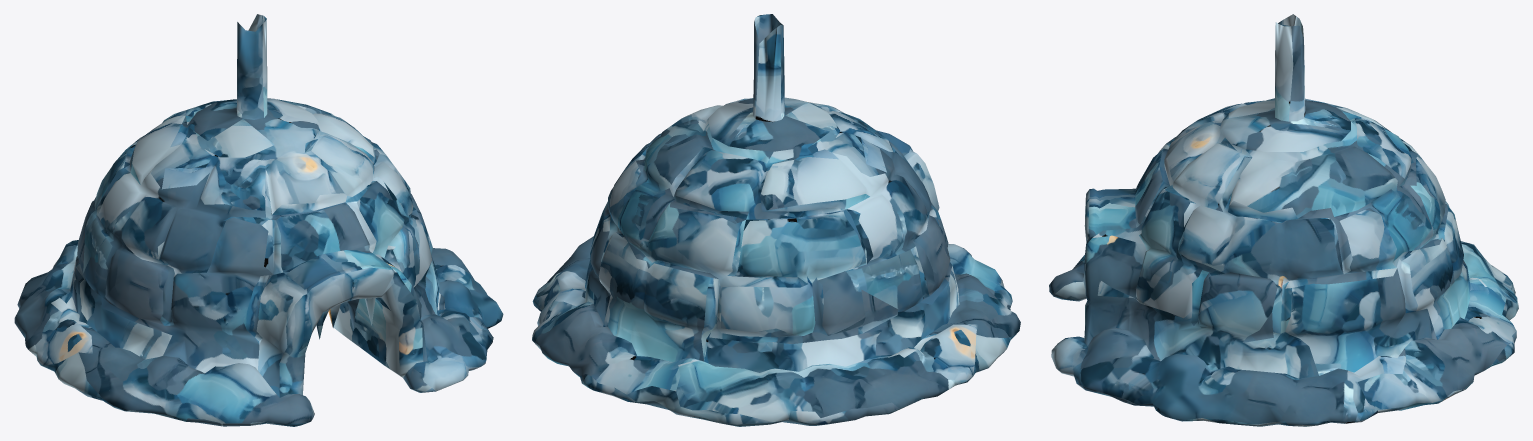
Rendered from Igloo (2).fbx.
3 views of the same model, side by side, from view 1: azimuth 30°, elevation 25°; view 2: azimuth 150°, elevation 25°; view 3: azimuth 270°, elevation 25° (orthographic).
Parts seen in each view (by area): view 1: mesh_node; view 2: mesh_node; view 3: mesh_node.
Boxes of the visible parts, bbox=[...] form: mesh_node: bbox=[14, 14, 503, 426]; mesh_node: bbox=[532, 14, 1020, 426]; mesh_node: bbox=[1049, 14, 1518, 426].
Size of the model in its own units: 1.98 by 1.45 by 1.93.
